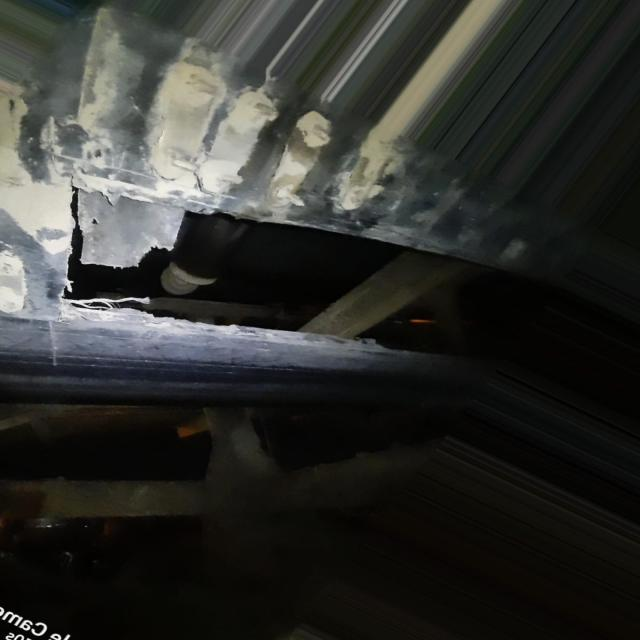Hole: (64, 191, 489, 356)
